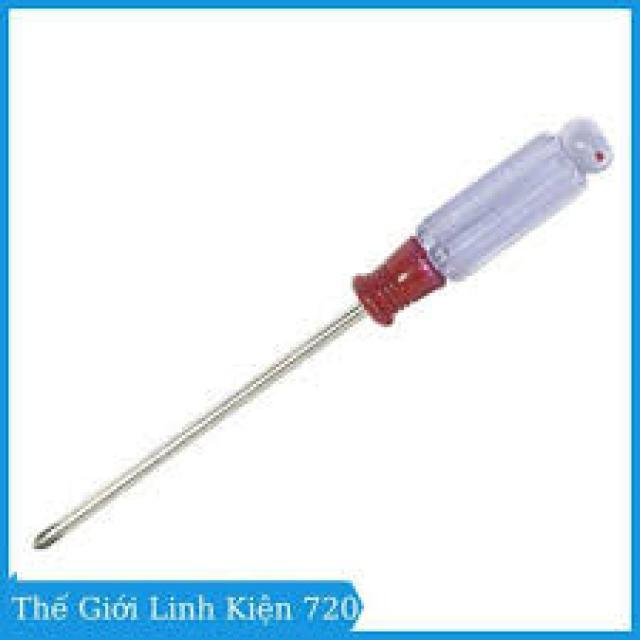screwdriver: (28, 114, 618, 549)
